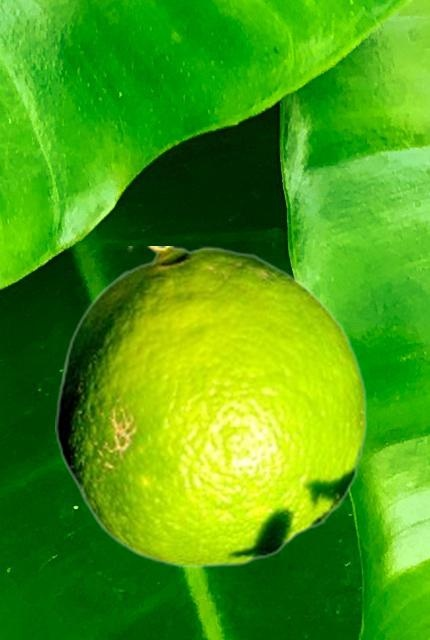dalandan: (55, 246, 366, 567)
